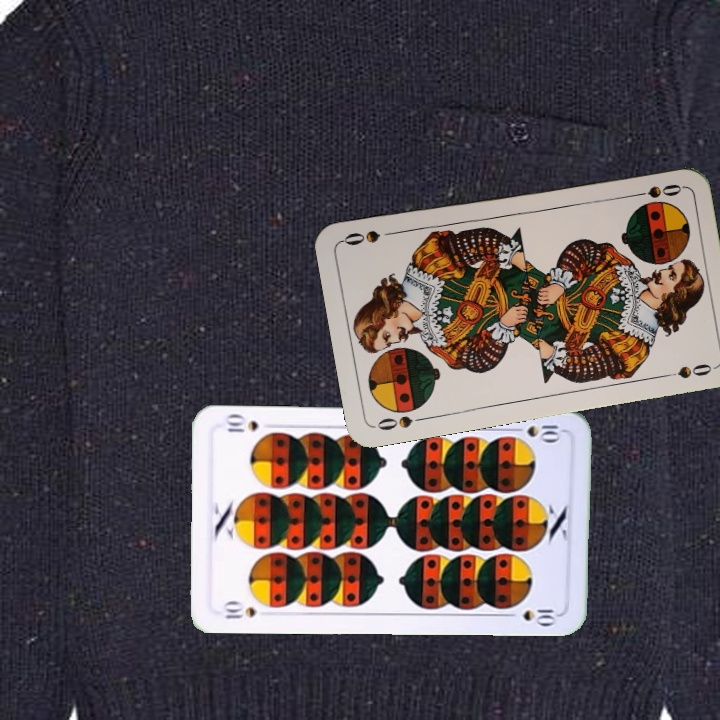S10: (506, 421, 565, 442), (220, 598, 260, 622)
SO: (625, 180, 684, 201), (371, 412, 430, 433)
